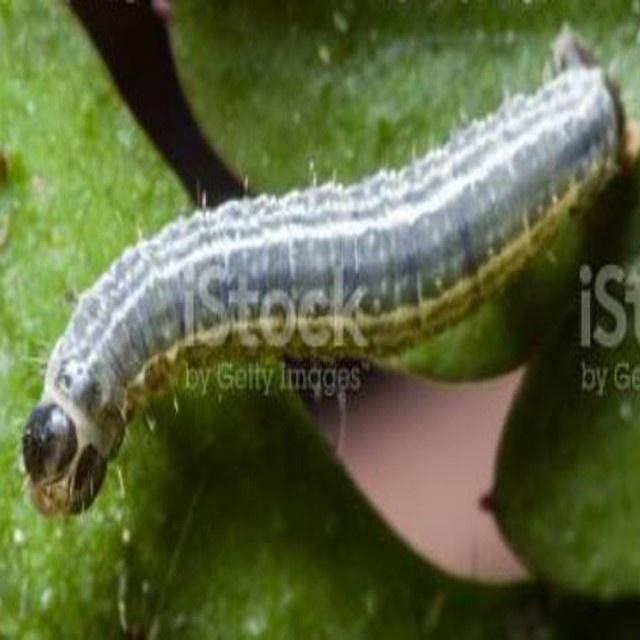Plaga: (28, 71, 615, 521)
